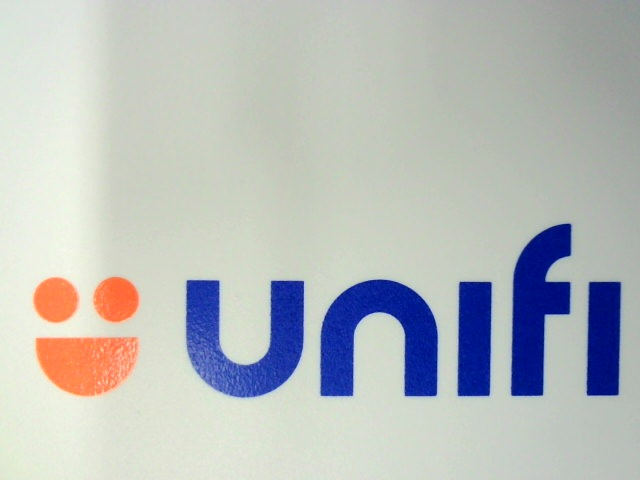BN_unifi: (18, 213, 626, 402)
